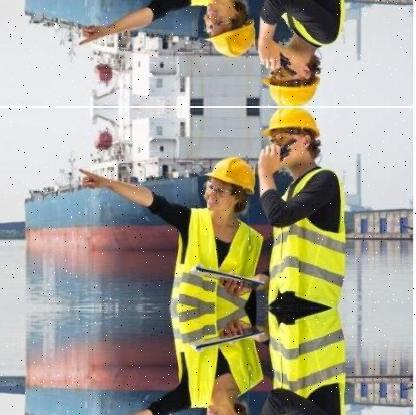helmet: (201, 148, 260, 221), (261, 106, 328, 165), (261, 48, 328, 107), (201, 0, 261, 65), (201, 393, 261, 413)
